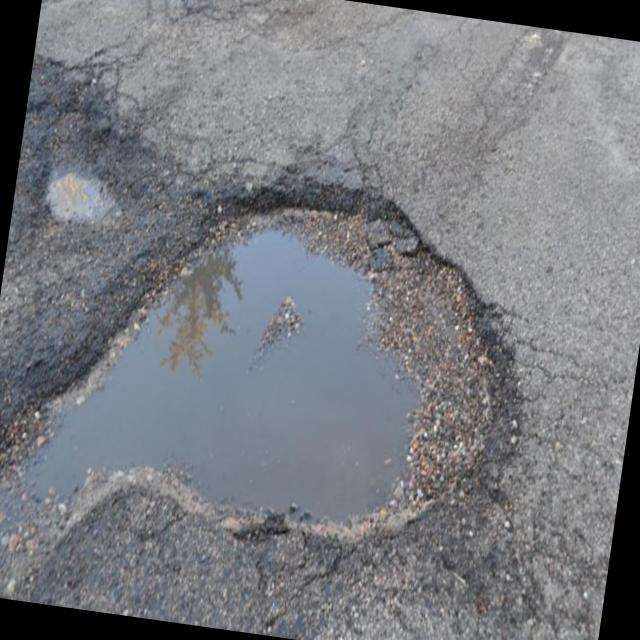Potholes: (0, 118, 577, 640), (10, 84, 133, 240), (84, 0, 250, 48)
